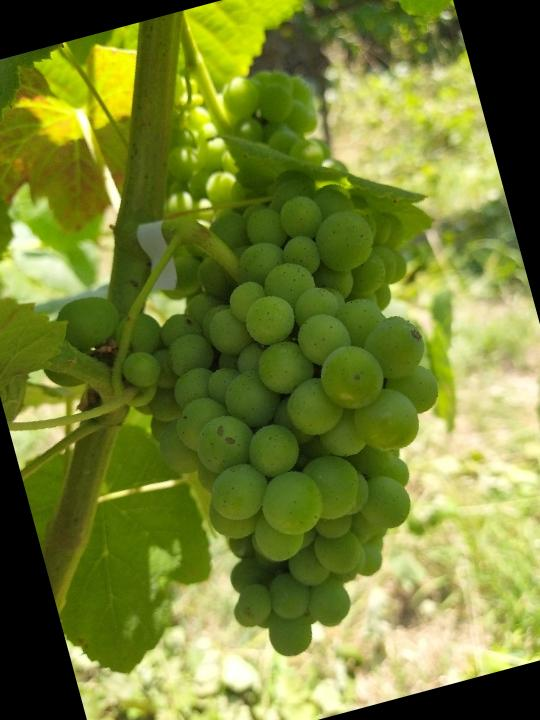grape: (10, 147, 498, 702)
